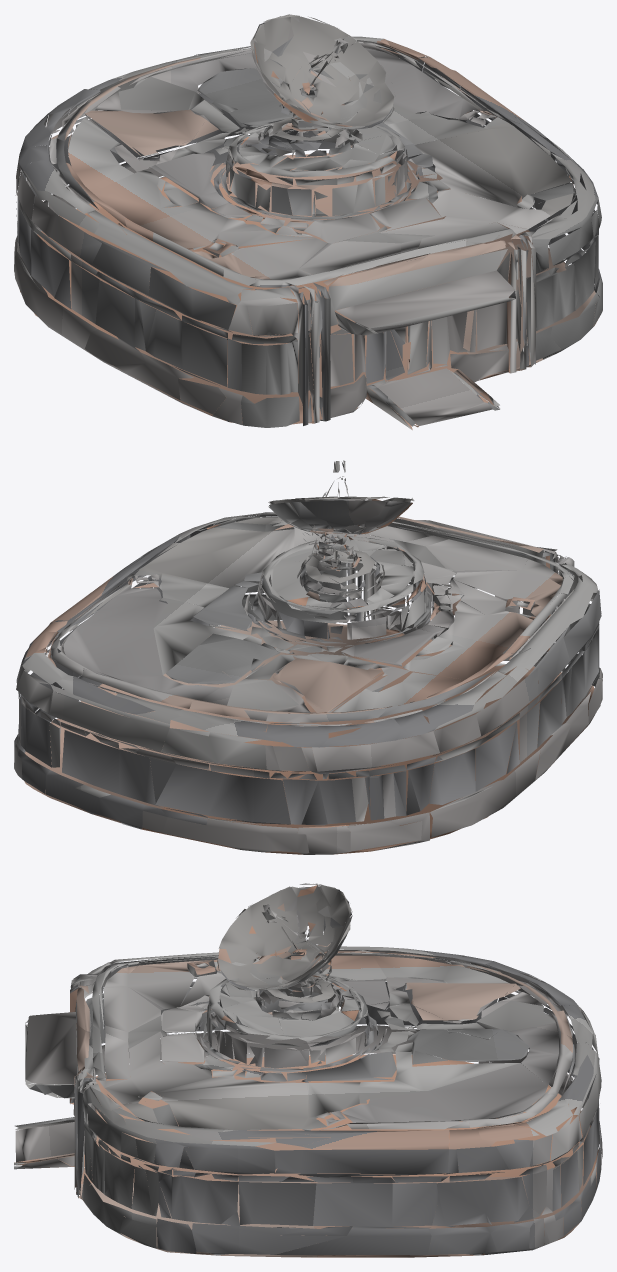
Rendered from mission.glb.
3 views of the same model, one above another, from view 1: azimuth 30°, elevation 25°; view 2: azimuth 150°, elevation 25°; view 3: azimuth 270°, elevation 25° (orthographic). The views are drawn at different scales.
Visible parts, largest first — view 1: LO.001; view 2: LO.001; view 3: LO.001.
Boxes of the visible parts, x1,y1,x2,y2 form: LO.001: (14,14,602,430); LO.001: (14,460,602,854); LO.001: (14,883,602,1257).
Bounding box in the file's own units: 23.99 × 13.82 × 29.02.
Materials: 1 (1 with a texture image).
